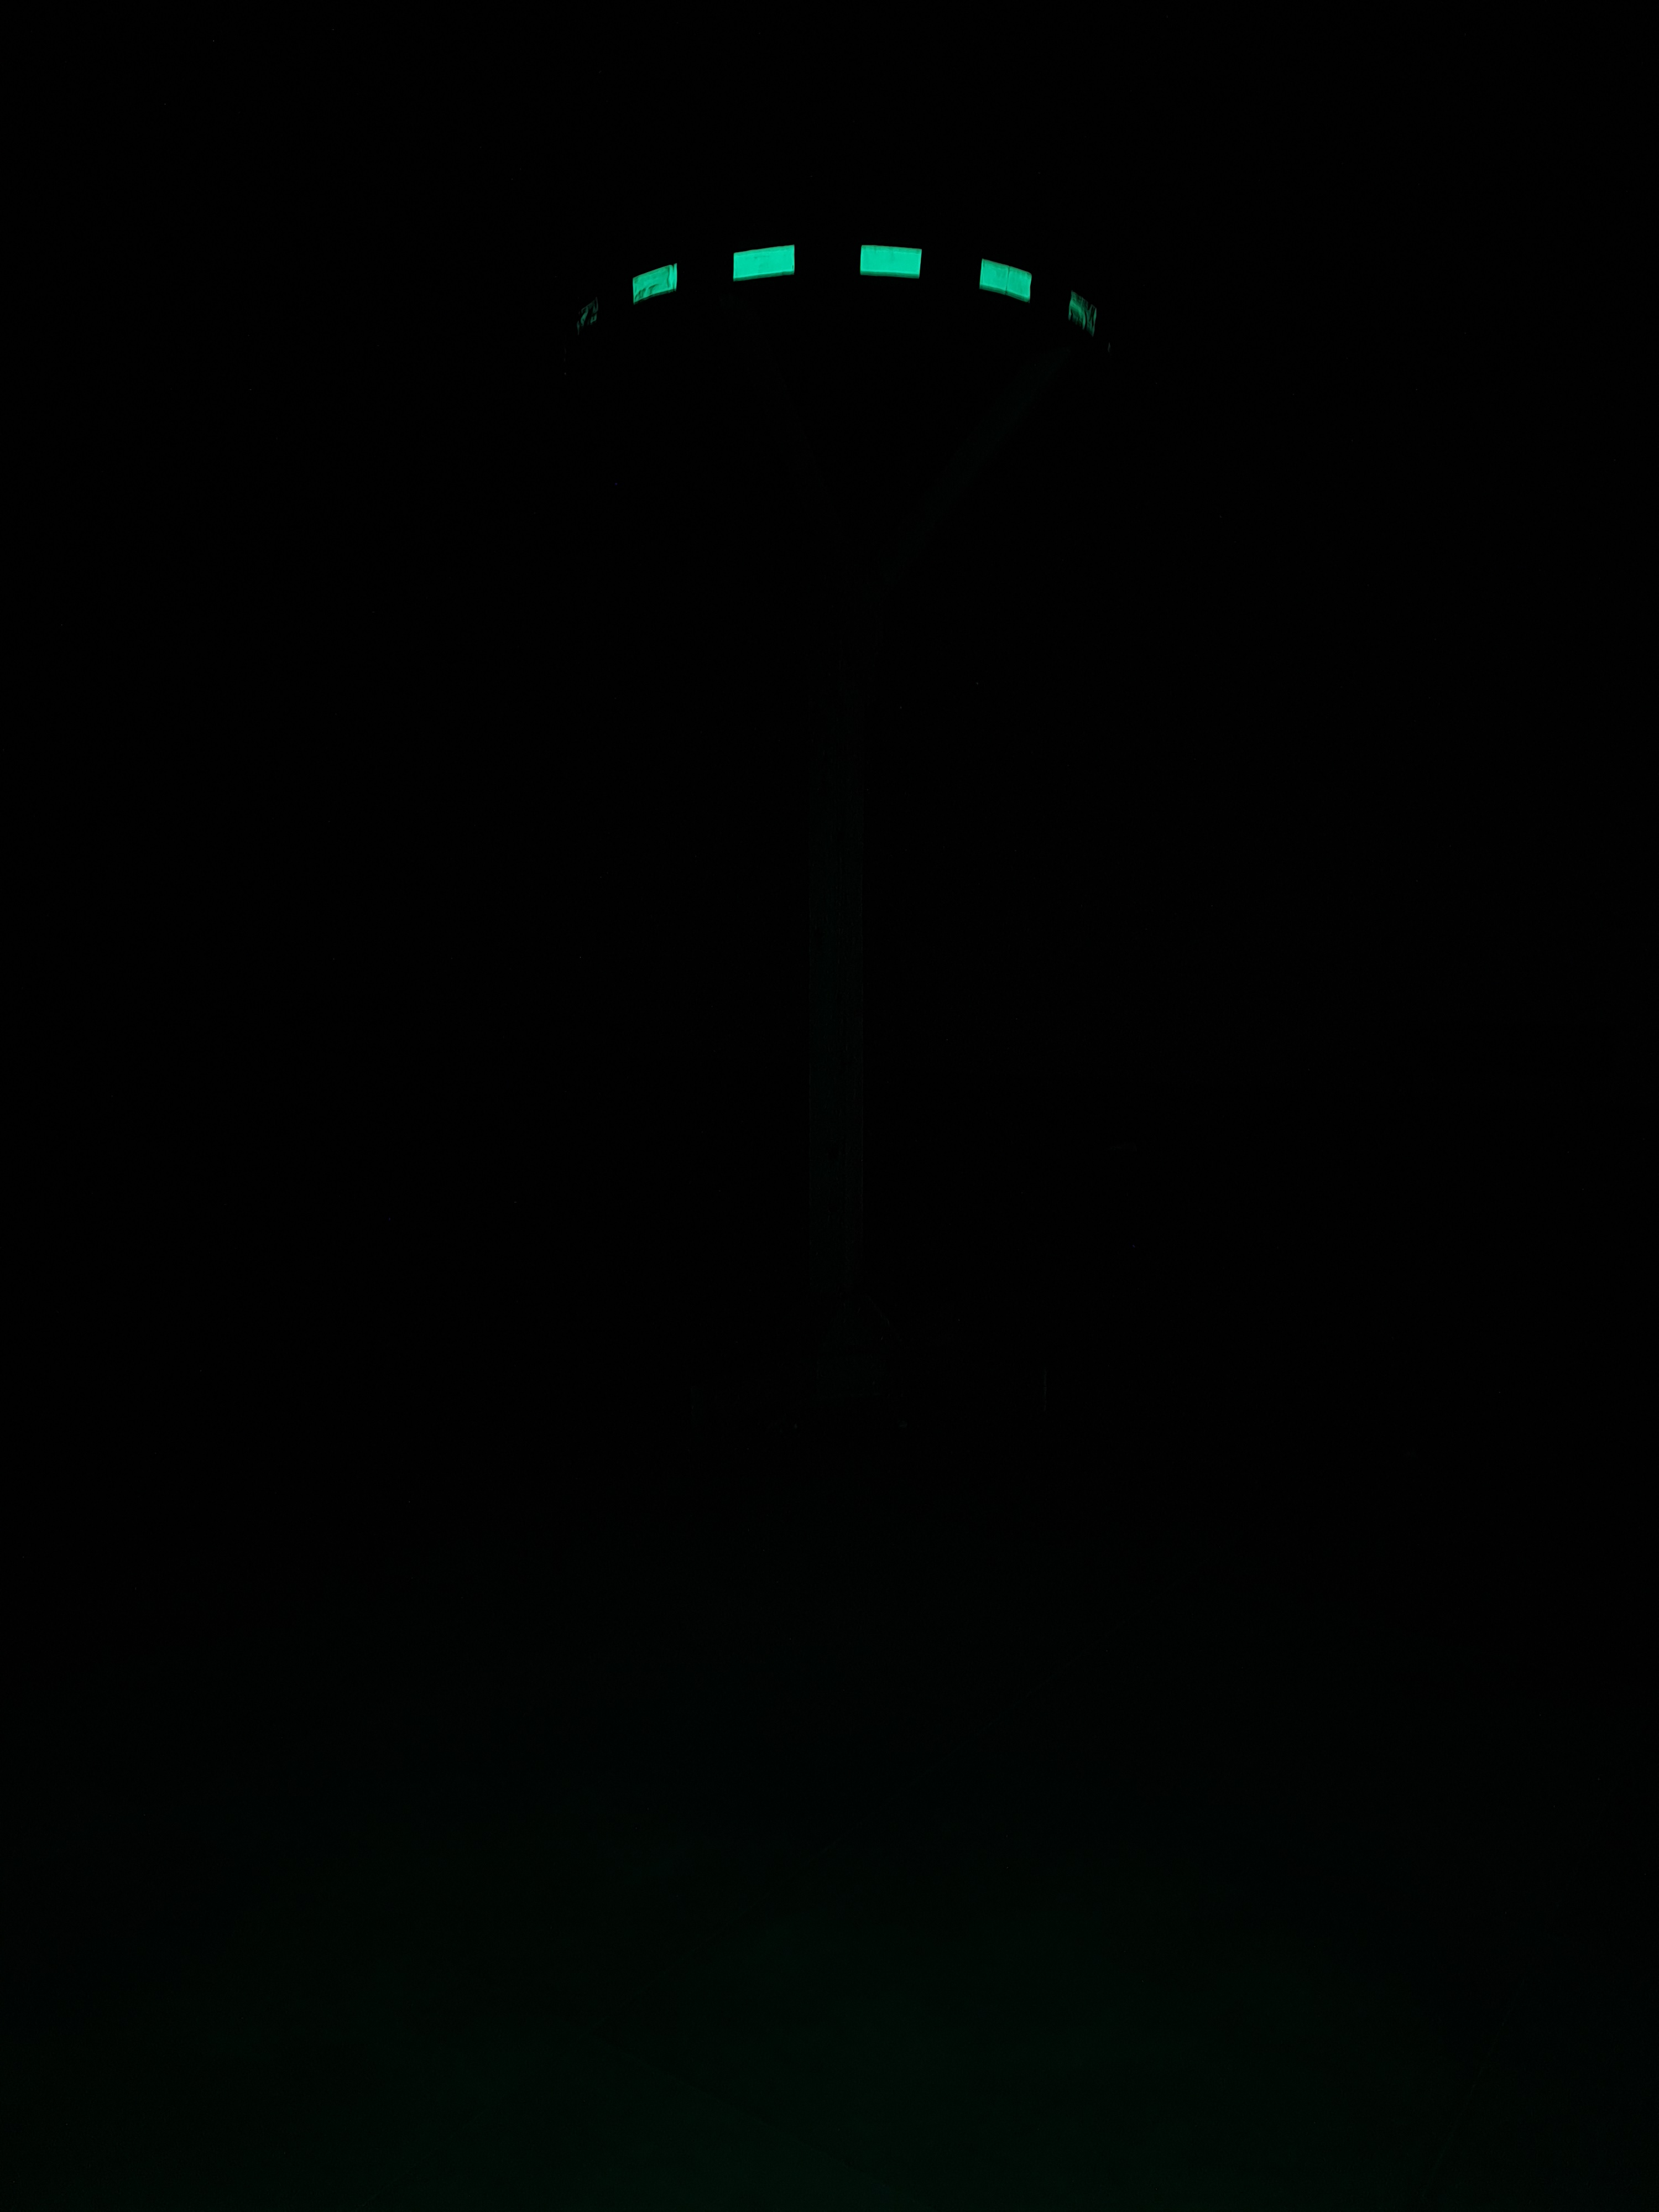hoop: (558, 230, 1100, 343)
